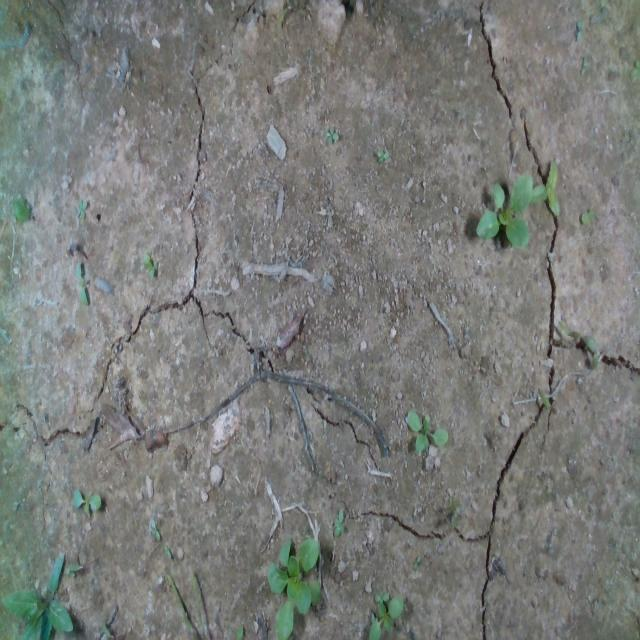weed: (404, 404, 450, 458), (71, 260, 99, 306), (534, 388, 568, 424), (68, 488, 108, 509), (138, 250, 159, 284), (373, 145, 401, 168), (331, 510, 354, 535), (574, 197, 596, 219), (318, 126, 340, 148), (73, 193, 90, 220), (414, 554, 434, 573), (147, 527, 165, 543)
